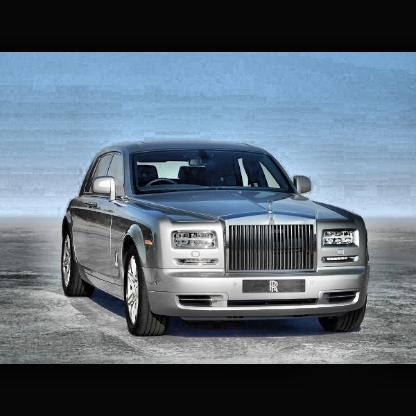Rolls-Royce Phantom Sedan 2012: (63, 142, 370, 338)
